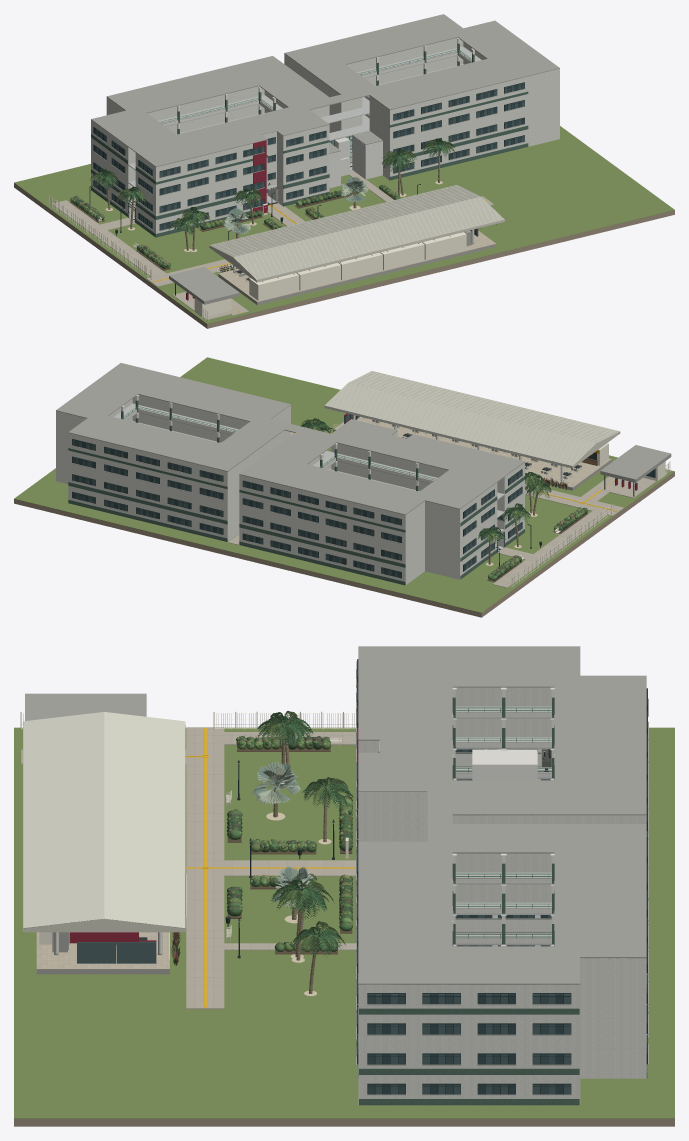
Rendered from Campus_Amelia_Uchoa.glb.
The picture shows the model from 3 angles, top to bottom: view 1: azimuth 30°, elevation 25°; view 2: azimuth 150°, elevation 25°; view 3: azimuth 270°, elevation 25°; orthographic projection. The views are drawn at different scales.
Visible parts, largest first — view 1: Recorte do campus e jardins, Cobertura das alas e das galerias, Cobertura de chapa • duas águas e testeiras, Envoltória das salas • pavimento 3, Envoltória das salas • pavimento 2, Frentes comerciais e balcões, Envoltória das salas • pavimento 1, Envoltória das salas • pavimento 0, Janelas e faixas da fachada • pavimento 3, Janelas e faixas da fachada • pavimento 1, Passeios externos • implantação estimada, Janelas e faixas da fachada • pavimento 0 (+11 smaller); view 2: Cobertura das alas e das galerias, Recorte do campus e jardins, Cobertura de chapa • duas águas e testeiras, Envoltória das salas • pavimento 3, Envoltória das salas • pavimento 2, Envoltória das salas • pavimento 0, Envoltória das salas • pavimento 1, Janelas e faixas da fachada • pavimento 0, Janelas e faixas da fachada • pavimento 1, Janelas e faixas da fachada • pavimento 3, Passeios externos • implantação estimada, Marquise, piso e guichê da entrada (+7 smaller); view 3: Recorte do campus e jardins, Cobertura das alas e das galerias, Cobertura de chapa • duas águas e testeiras, Envoltória das salas • pavimento 3, Passeios externos • implantação estimada, Envoltória das salas • pavimento 2, Envoltória das salas • pavimento 1, Canteiros de ixoras, cercas vivas e folhagens, Envoltória das salas • pavimento 0, Janelas e faixas da fachada • pavimento 3, Janelas e faixas da fachada • pavimento 1, Janelas e faixas da fachada • pavimento 0 (+19 smaller).
Boxes of the visible parts, bbox=[...] form: Recorte do campus e jardins: bbox=[14, 126, 674, 328]; Cobertura das alas e das galerias: bbox=[91, 14, 559, 167]; Cobertura de chapa • duas águas e testeiras: bbox=[209, 185, 504, 282]; Envoltória das salas • pavimento 3: bbox=[91, 38, 559, 182]; Envoltória das salas • pavimento 2: bbox=[91, 56, 559, 202]; Frentes comerciais e balcões: bbox=[249, 232, 466, 300]; Envoltória das salas • pavimento 1: bbox=[91, 104, 559, 216]; Envoltória das salas • pavimento 0: bbox=[91, 121, 559, 233]; Janelas e faixas da fachada • pavimento 3: bbox=[91, 82, 528, 184]; Janelas e faixas da fachada • pavimento 1: bbox=[91, 117, 528, 219]; Passeios externos • implantação estimada: bbox=[52, 170, 493, 315]; Janelas e faixas da fachada • pavimento 0: bbox=[91, 135, 528, 237]; Cobertura das alas e das galerias: bbox=[56, 363, 524, 515]; Recorte do campus e jardins: bbox=[14, 357, 674, 617]; Cobertura de chapa • duas águas e testeiras: bbox=[324, 371, 620, 468]; Envoltória das salas • pavimento 3: bbox=[56, 395, 524, 531]; Envoltória das salas • pavimento 2: bbox=[56, 413, 524, 550]; Envoltória das salas • pavimento 0: bbox=[56, 463, 524, 585]; Envoltória das salas • pavimento 1: bbox=[56, 446, 524, 567]; Janelas e faixas da fachada • pavimento 0: bbox=[68, 491, 524, 585]; Janelas e faixas da fachada • pavimento 1: bbox=[68, 474, 524, 567]; Janelas e faixas da fachada • pavimento 3: bbox=[68, 439, 524, 532]; Passeios externos • implantação estimada: bbox=[291, 432, 623, 587]; Marquise, piso e guichê da entrada: bbox=[600, 445, 671, 498]; Recorte do campus e jardins: bbox=[14, 727, 674, 1126]; Cobertura das alas e das galerias: bbox=[358, 646, 646, 984]; Cobertura de chapa • duas águas e testeiras: bbox=[23, 712, 185, 932]; Envoltória das salas • pavimento 3: bbox=[358, 687, 646, 1014]; Passeios externos • implantação estimada: bbox=[21, 727, 355, 1009]; Envoltória das salas • pavimento 2: bbox=[358, 718, 646, 1044]; Envoltória das salas • pavimento 1: bbox=[358, 767, 646, 1074]; Canteiros de ixoras, cercas vivas e folhagens: bbox=[171, 735, 352, 965]; Envoltória das salas • pavimento 0: bbox=[358, 1048, 646, 1105]; Janelas e faixas da fachada • pavimento 3: bbox=[356, 659, 648, 1014]; Janelas e faixas da fachada • pavimento 1: bbox=[356, 764, 648, 1074]; Janelas e faixas da fachada • pavimento 0: bbox=[356, 820, 648, 1105].
Bounding box in the file's own units: 90 × 14.07 × 64.4.
87 materials, 31 textured.
